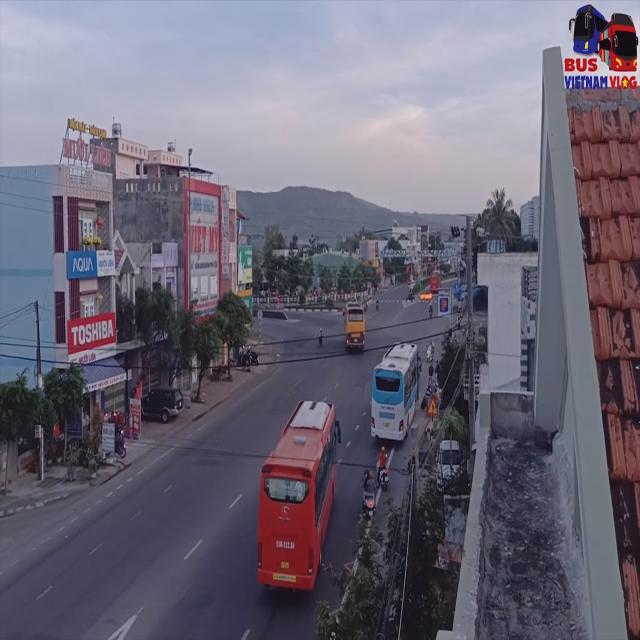bus: (254, 398, 337, 594), (368, 342, 416, 446), (344, 302, 366, 355)
motorbike: (362, 471, 375, 519), (378, 446, 388, 488)
